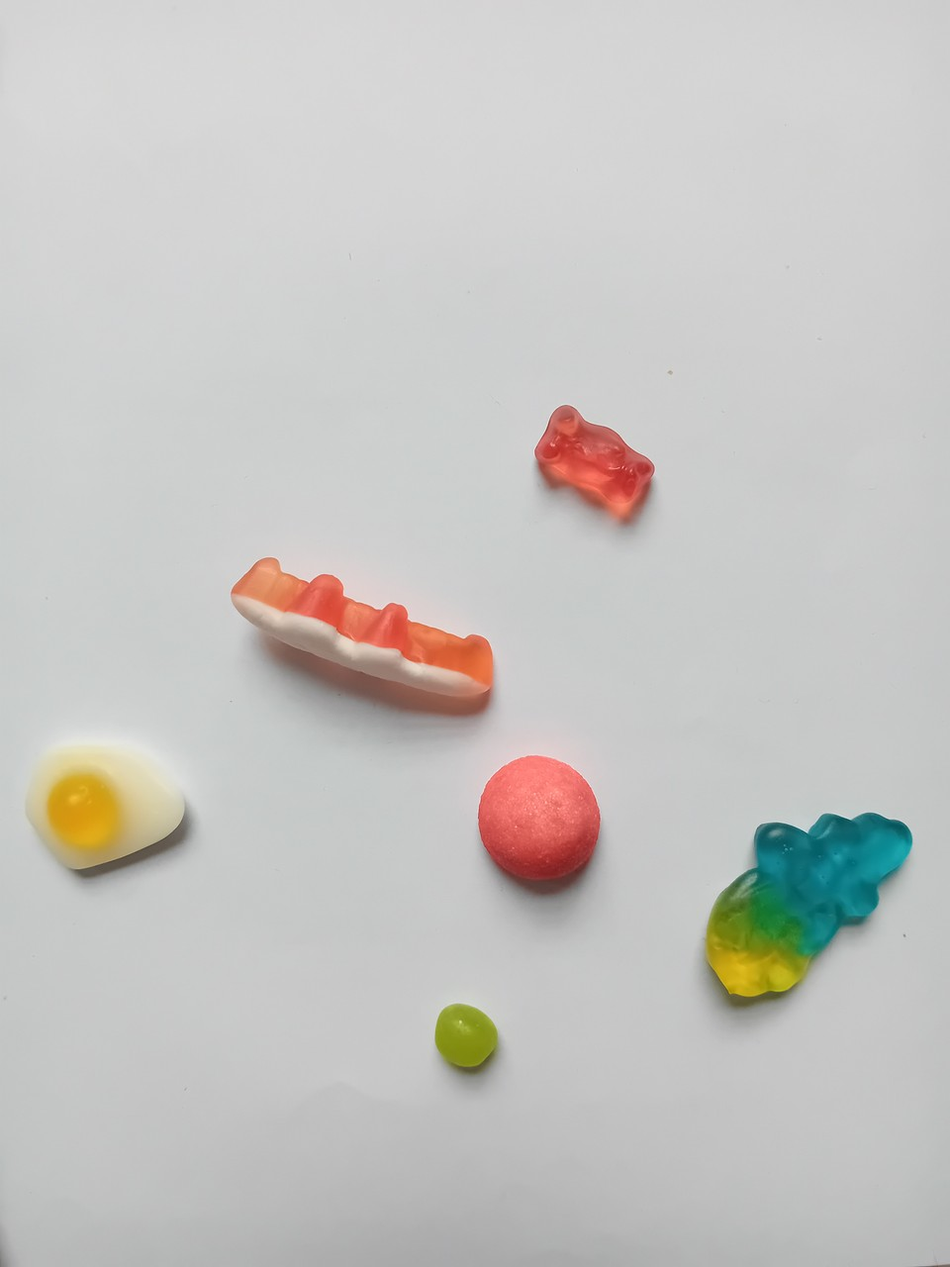crocodile_orange: (227, 549, 500, 702)
dragibus_vert: (426, 999, 504, 1074)
oeuf_oeuf: (22, 745, 191, 878)
ourson_orangeFonce: (522, 398, 660, 520)
schtroumpf_bleu-jaune: (695, 790, 914, 1015)
tagada_fraise: (473, 749, 608, 891)
